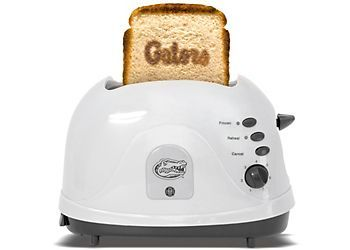slice of bread: (123, 3, 230, 81)
